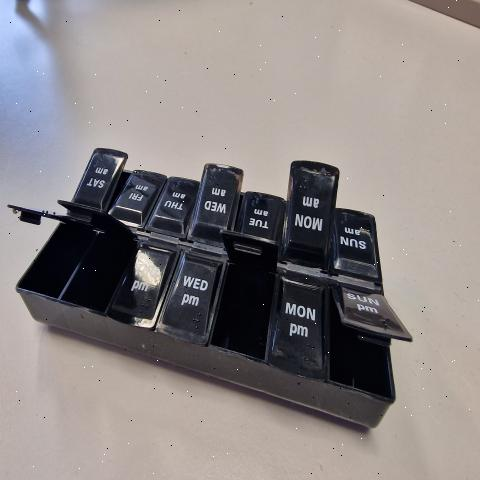Open: (207, 231, 276, 361), (58, 202, 135, 316), (325, 284, 401, 397), (10, 206, 94, 298), (107, 156, 130, 211), (282, 161, 294, 249), (232, 173, 244, 230)
